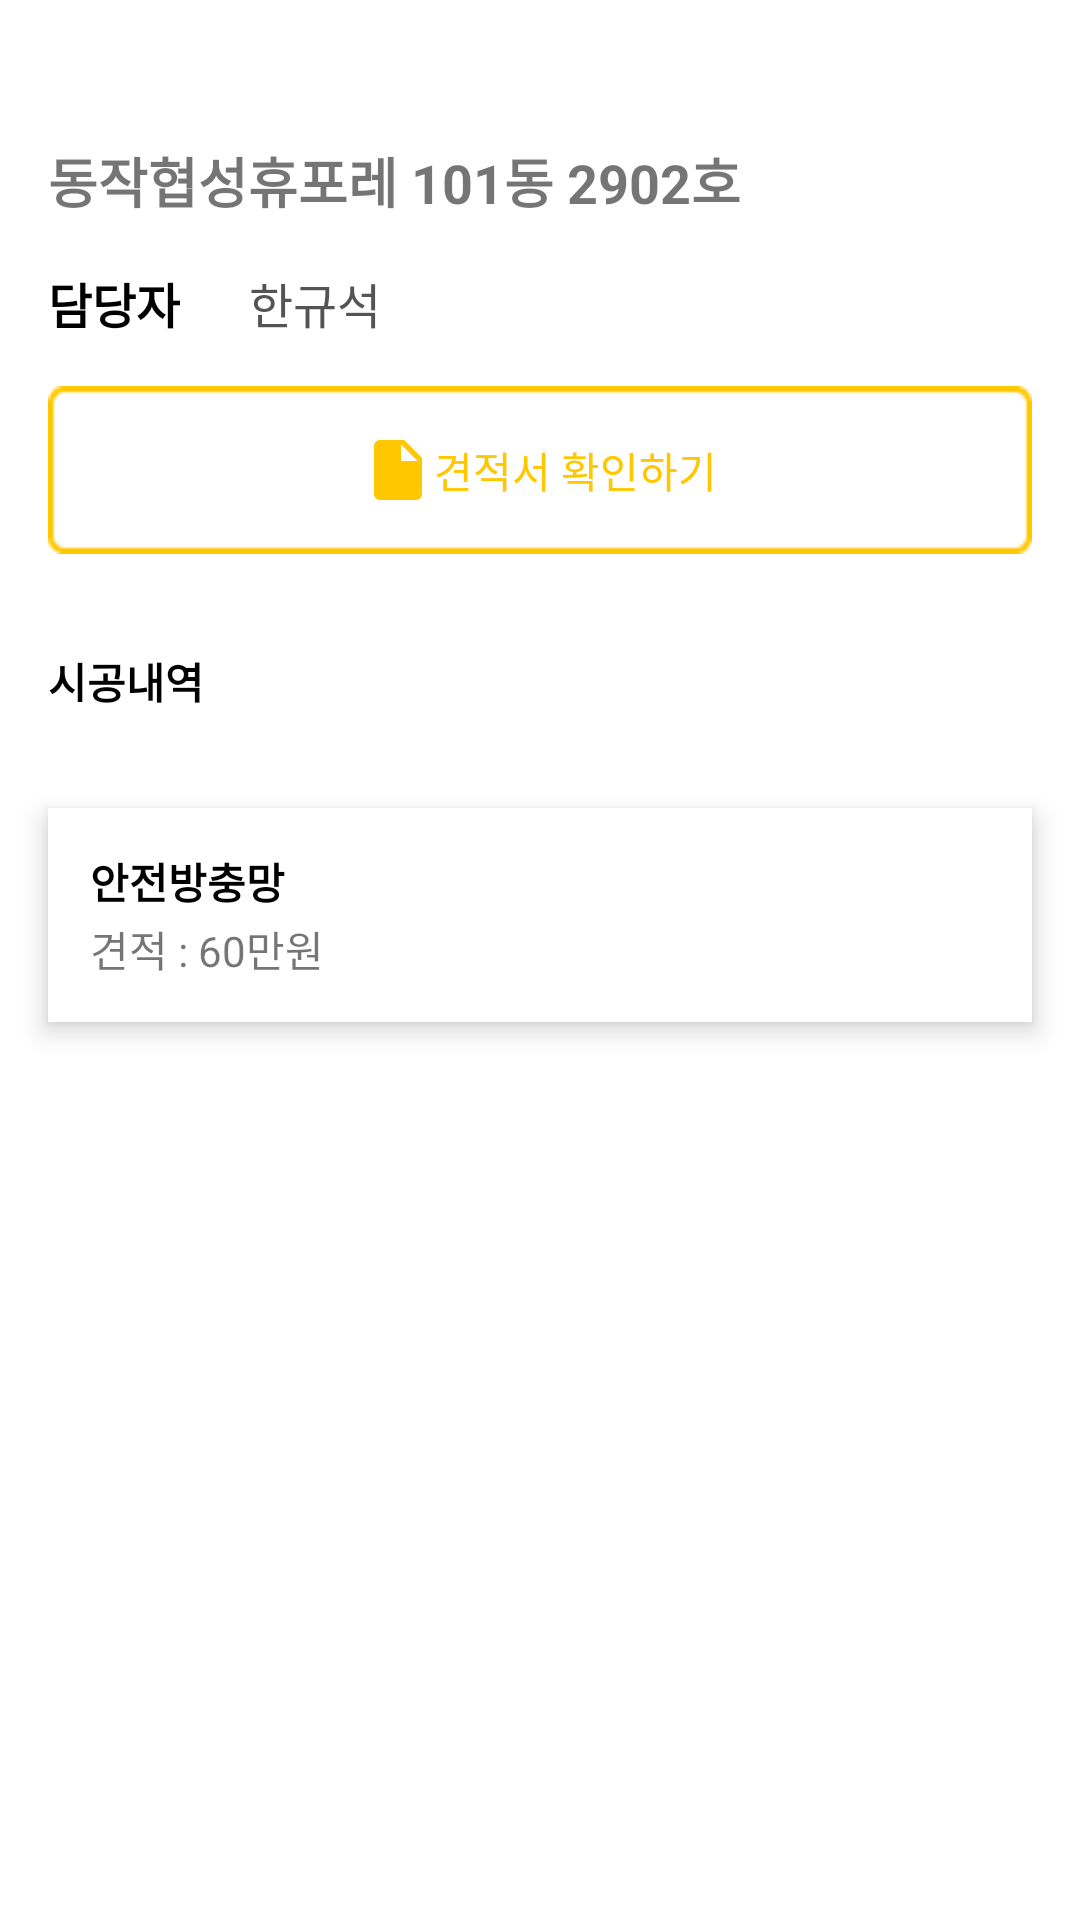

Where to tap for icons on this 1080 × 1920 app screen, as (x=x, y=y):
insert drive file: (x=398, y=470)
